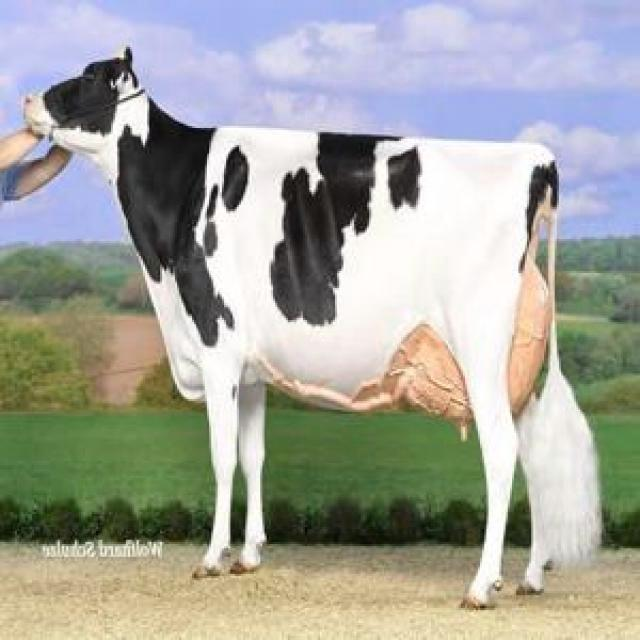cow: (25, 50, 600, 608)
